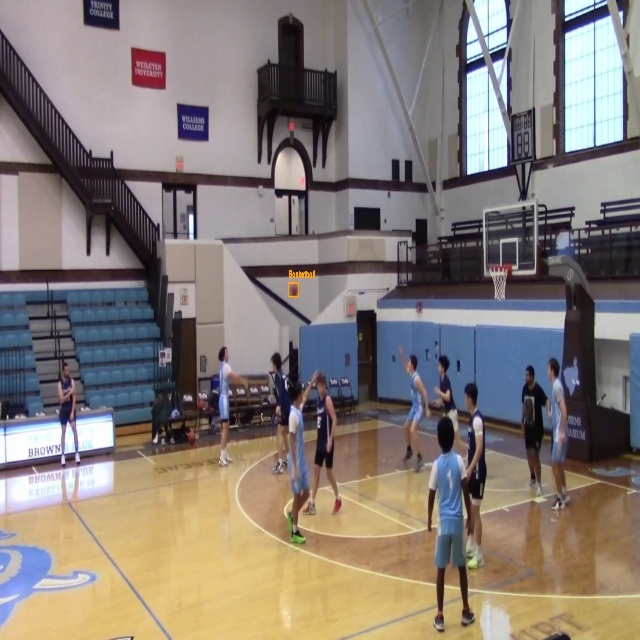Basketball: (289, 283, 299, 297)
